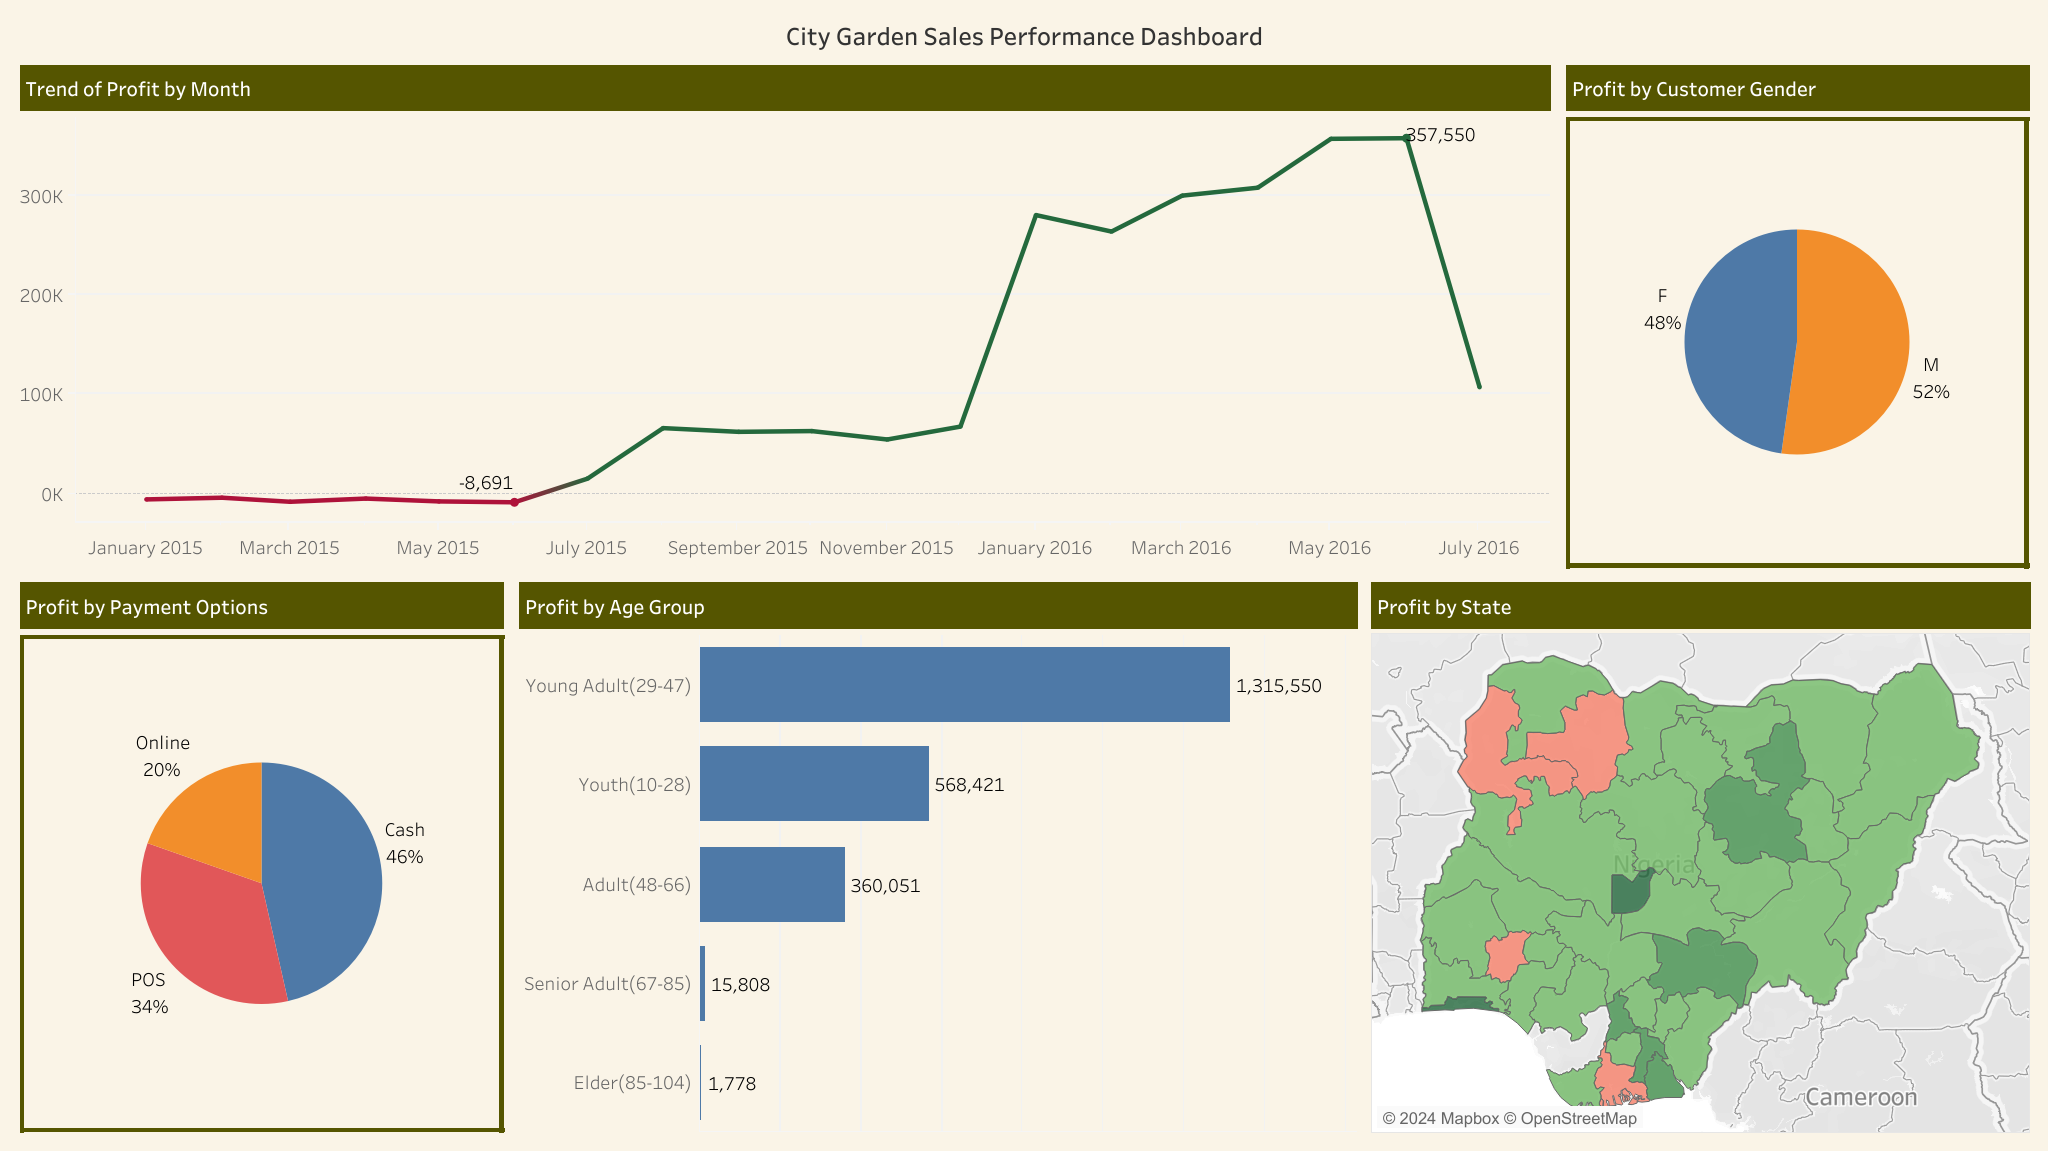

The dashboard page shown, as its layout file describes it:
{"tool":"tableau","page":{"name":"Dashboard 1","canvas":[1366,768],"ordinal":0},"visuals":[{"type":"title","box":[8,8,1350,41]},{"type":"worksheet","title":"Trend of Profit by Month","mark":"Automatic","rows":["Calculation_924926835439181826"],"cols":["Date"],"box":[8,49,1031,335]},{"type":"worksheet","title":"Profit by Customer Gender","mark":"Pie","box":[1039,49,319,335]},{"type":"worksheet","title":"Profit by Payment Options","mark":"Pie","box":[8,384,333,376]},{"type":"worksheet","title":"Profit by Age Group","mark":"Automatic","rows":["Calculation_924926835440480259"],"cols":["Calculation_924926835439181826"],"box":[341,384,569,376]},{"type":"worksheet","title":"Profit by State","mark":"Automatic","box":[910,384,448,376]}]}

Visuals, with their boxes in screenshot pixels (x1, y1, x2, y2), scaled from the page's 1366x768 canvas onto the 2048x1151 screenshot:
title: detection(12, 12, 2036, 73)
"Trend of Profit by Month" worksheet: detection(12, 73, 1558, 576)
"Profit by Customer Gender" worksheet (Pie marks): detection(1558, 73, 2036, 576)
"Profit by Payment Options" worksheet (Pie marks): detection(12, 576, 511, 1139)
"Profit by Age Group" worksheet: detection(511, 576, 1364, 1139)
"Profit by State" worksheet: detection(1364, 576, 2036, 1139)
